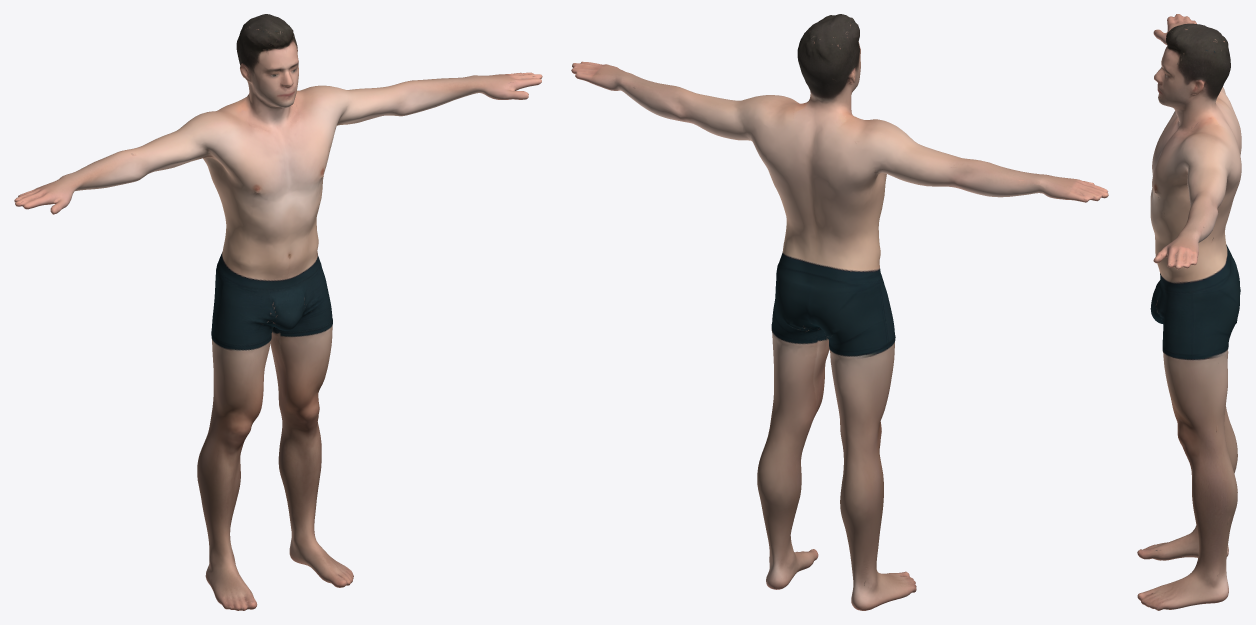
File: Meshy_AI_T_Pose_0302121916_texture.fbx
3 renders of one model, left to right at view 1: azimuth 30°, elevation 25°; view 2: azimuth 150°, elevation 25°; view 3: azimuth 270°, elevation 25°, orthographic. The views are drawn at different scales.
Visible parts, largest first — view 1: Mesh1.0; view 2: Mesh1.0; view 3: Mesh1.0.
Part boxes in pixels (x1,y1,x2,y2): Mesh1.0: (14, 14, 542, 610); Mesh1.0: (571, 14, 1108, 610); Mesh1.0: (1137, 14, 1241, 610).
Size of the model in its own units: 187 by 191 by 32.62.
Materials: 1 (1 with a texture image).
